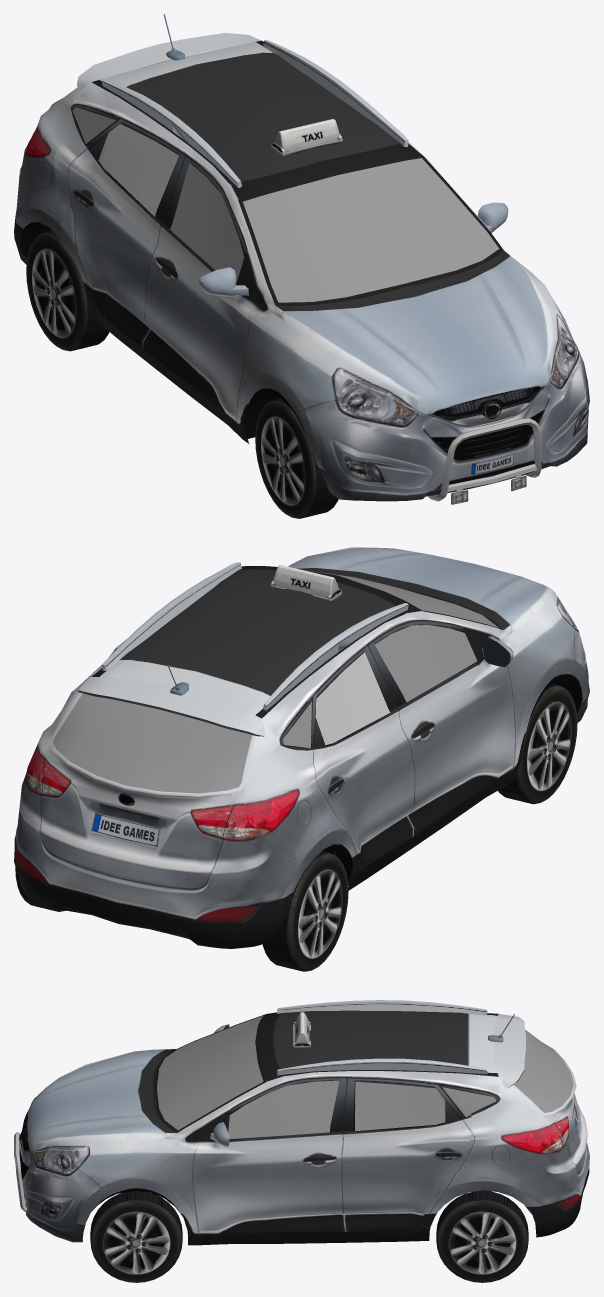
Rendered from Taxi_08_suv.FBX.
The picture shows the model from 3 angles, top to bottom: view 1: azimuth 30°, elevation 25°; view 2: azimuth 150°, elevation 25°; view 3: azimuth 270°, elevation 25°; orthographic projection. The views are drawn at different scales.
Parts seen in each view (by area): view 1: polySurface10, Object016, polySurface5, Silver Wheel_FR002, Silver Wheel_FR003, top light006; view 2: polySurface10, Object016, polySurface5, Silver Wheel_FR003, Silver Wheel_FR002, top light006; view 3: polySurface10, polySurface14, polySurface5, Silver Wheel_FR005, Silver Wheel_FR004, top light006.
Boxes of the visible parts, x1,y1,x2,y2 form: polySurface10: (14, 40, 589, 501); Object016: (68, 117, 183, 350); polySurface5: (77, 14, 541, 504); Silver Wheel_FR002: (255, 398, 338, 518); Silver Wheel_FR003: (26, 230, 109, 351); top light006: (271, 119, 342, 156); polySurface10: (14, 547, 589, 948); Object016: (311, 646, 416, 867); polySurface5: (77, 562, 513, 880); Silver Wheel_FR003: (262, 851, 348, 971); Silver Wheel_FR002: (498, 684, 577, 804); top light006: (270, 565, 341, 600); polySurface10: (19, 1010, 589, 1245); polySurface14: (341, 1076, 471, 1231); polySurface5: (14, 1000, 525, 1212); Silver Wheel_FR005: (436, 1190, 528, 1282); Silver Wheel_FR004: (90, 1190, 182, 1282); top light006: (293, 1012, 310, 1048).
Bounding box in the file's own units: 99.22 × 88.62 × 214.
